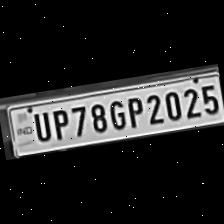0: (160, 87, 183, 122)
2: (142, 90, 164, 127), (180, 84, 202, 120)
5: (197, 80, 219, 118)
7: (66, 103, 90, 139)
8: (86, 99, 110, 136)
G: (105, 96, 128, 132)
P: (46, 105, 72, 142), (123, 93, 145, 130)
U: (28, 107, 52, 144)
